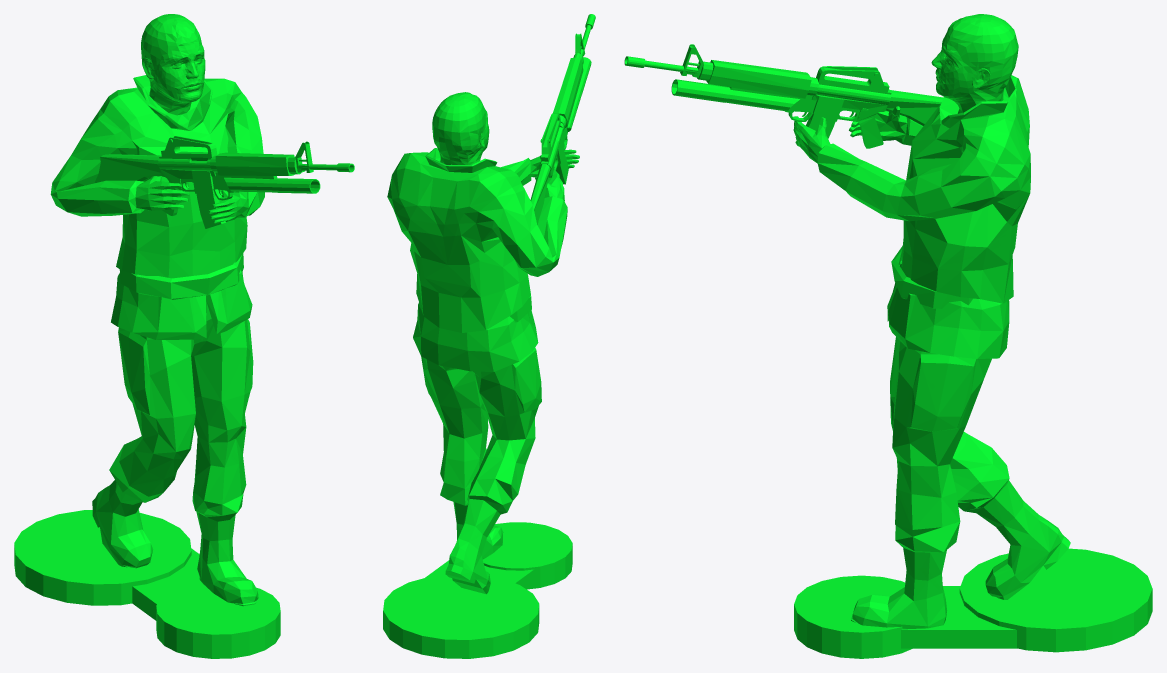
Rendered from armydude.obj.
3 views of the same model, side by side, from view 1: azimuth 30°, elevation 25°; view 2: azimuth 150°, elevation 25°; view 3: azimuth 270°, elevation 25° (orthographic). The views are drawn at different scales.
Visible parts, largest first — view 1: null_6; view 2: null_6; view 3: null_6.
Boxes of the visible parts, box(x1,y1,x2,y2) form: null_6: box(14, 14, 354, 658); null_6: box(383, 14, 595, 658); null_6: box(624, 14, 1152, 658).
Bounding box in the file's own units: 2.76 × 7.97 × 6.17.
10 materials, 10 textured.
